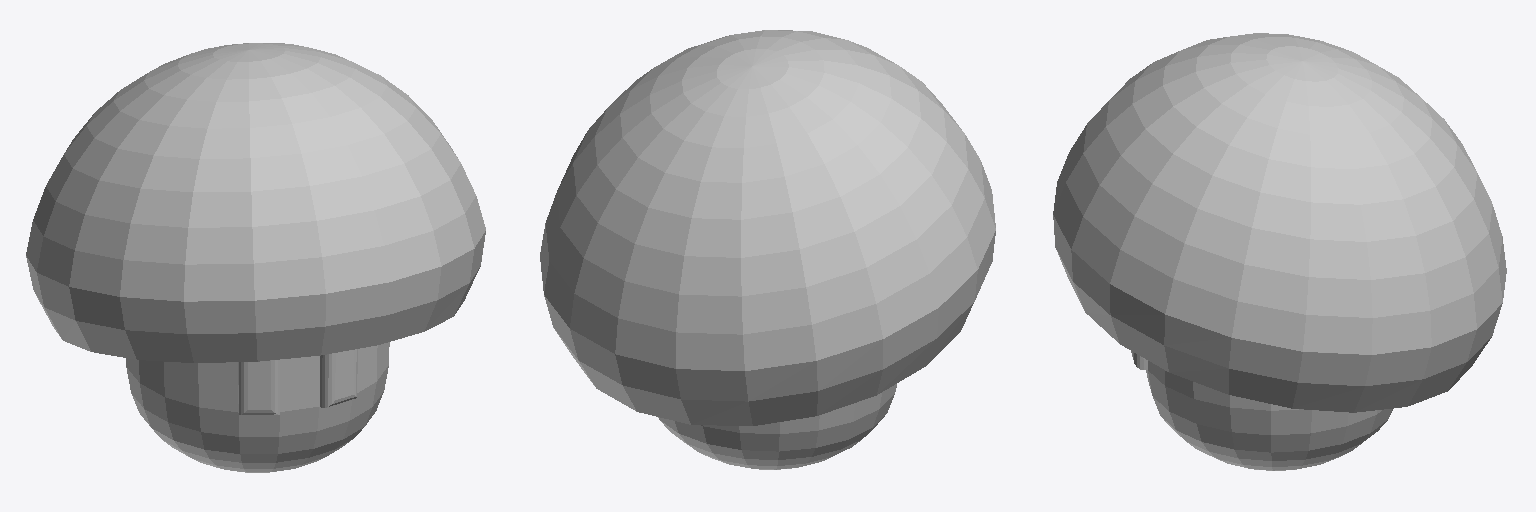
The model's file is MushroomTexture.obj.
3 renders of one model, left to right at view 1: azimuth 30°, elevation 25°; view 2: azimuth 150°, elevation 25°; view 3: azimuth 270°, elevation 25°, orthographic.
Visible parts, largest first — view 1: Mushroom MushroomTop, MushroomBottom Mushroom; view 2: Mushroom MushroomTop, MushroomBottom Mushroom; view 3: Mushroom MushroomTop, MushroomBottom Mushroom.
Boxes of the visible parts, <box> form: Mushroom MushroomTop: <box>26,43,485,362</box>; MushroomBottom Mushroom: <box>126,342,389,472</box>; Mushroom MushroomTop: <box>540,30,995,425</box>; MushroomBottom Mushroom: <box>658,384,896,469</box>; Mushroom MushroomTop: <box>1053,33,1506,412</box>; MushroomBottom Mushroom: <box>1131,351,1393,470</box>.
Size of the model in its own units: 0.6292 by 0.6076 by 0.6232.